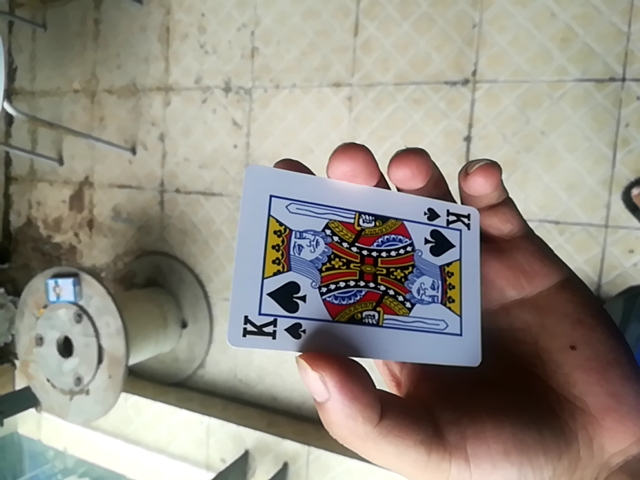ht k: (224, 161, 482, 366)
